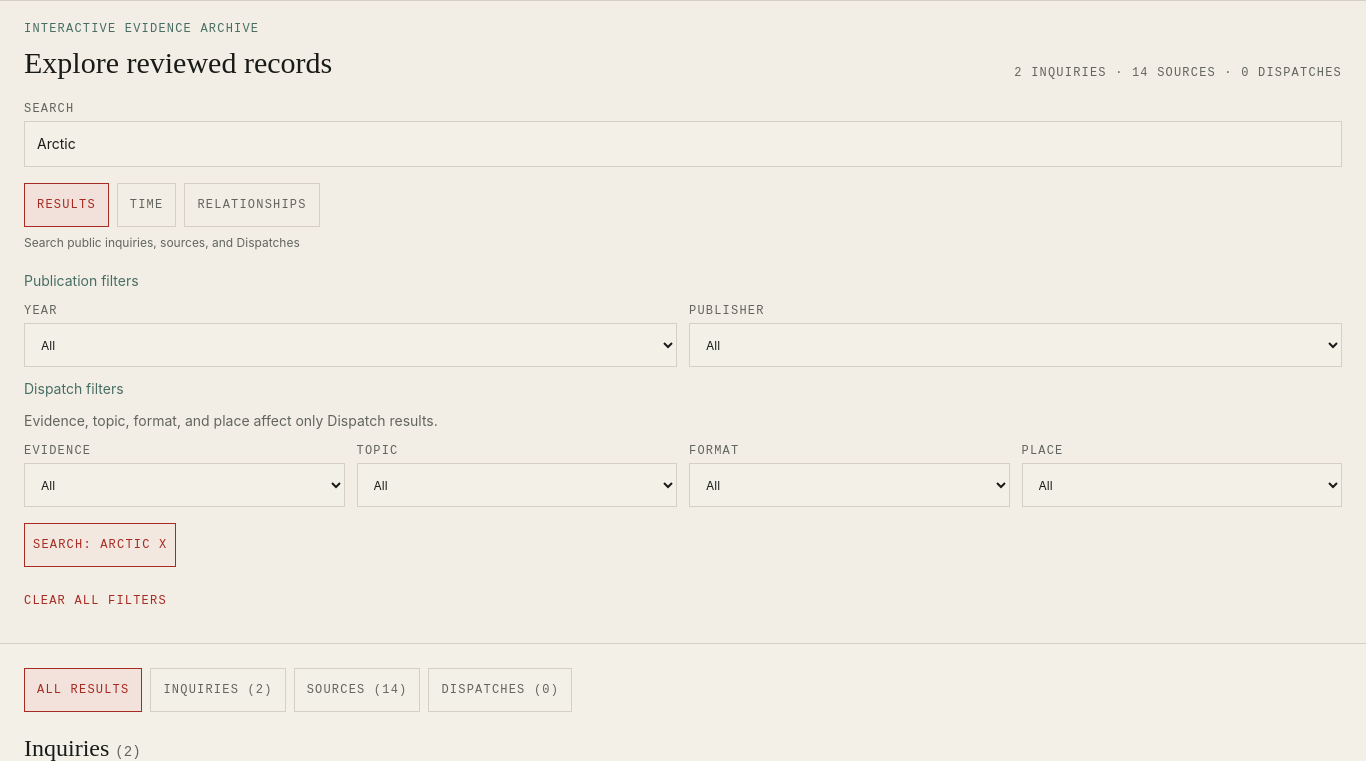
Test: searches Notebook sources and shows one relationship explorer at a time
Expected: the search field labelled "Search" holds "Arctic", [24,121,1342,167]
What coordinates should you click on to do the following:
click the button "Relationships"
I would click on:
 (252, 205)
Its box is [184,183,320,227].
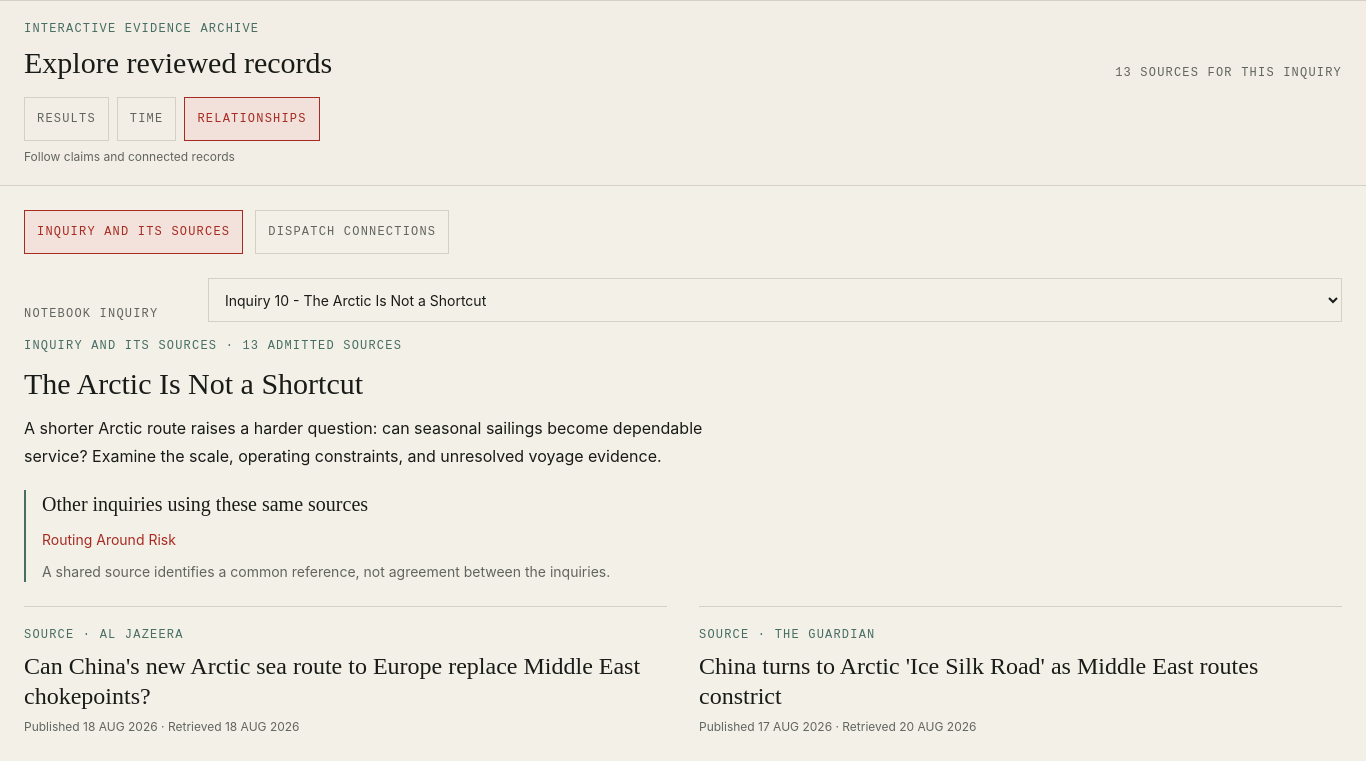
Expected: the field labelled "Focus record" is not shown
What coordinates should you click on to do the following:
click the button "Dispatch connections"
I would click on:
 (352, 232)
Its box is [255,210,449,254].
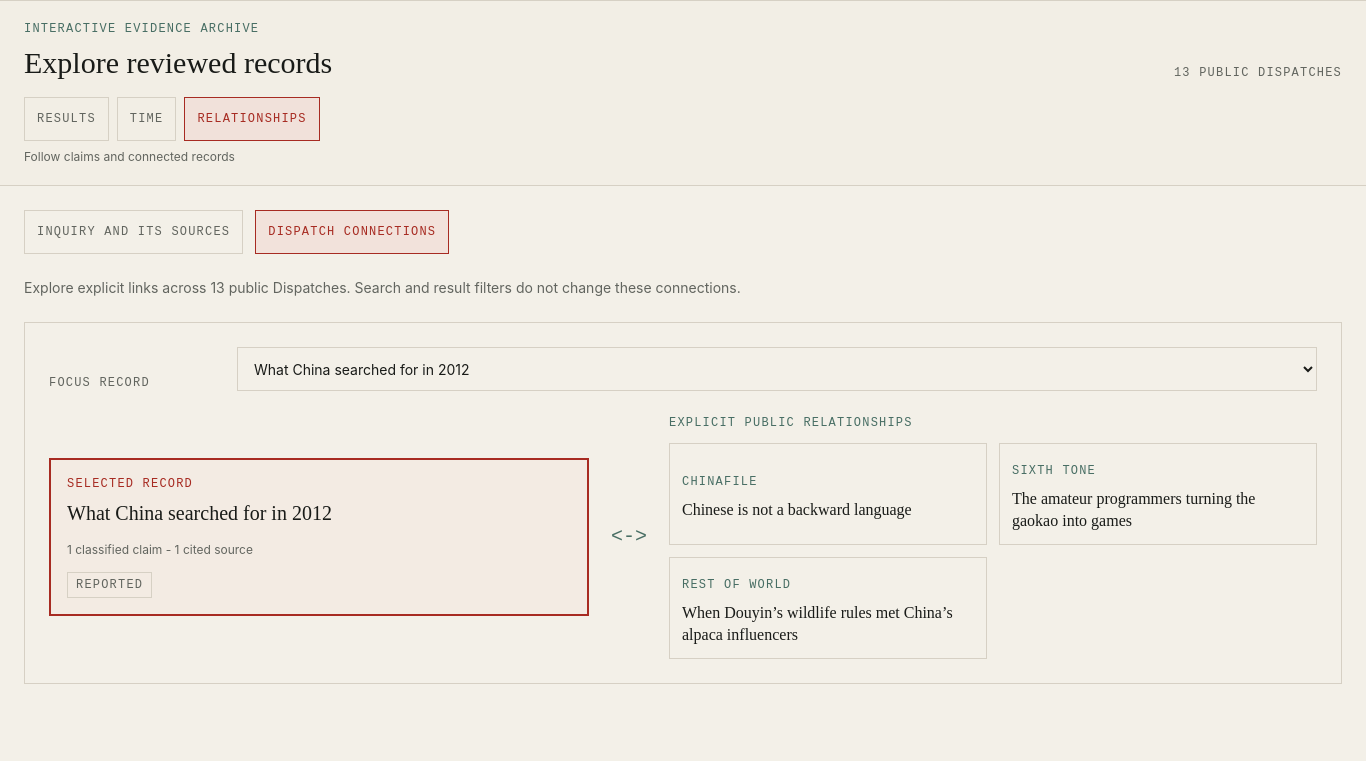
Now the dropdown labelled "Focus record" is shown, box [237,347,1317,391]
Now the label labelled "Notebook inquiry" is gone
